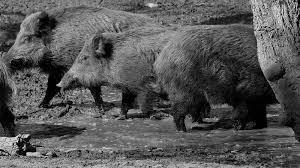wildboar: (2, 4, 165, 107), (56, 27, 179, 119)
